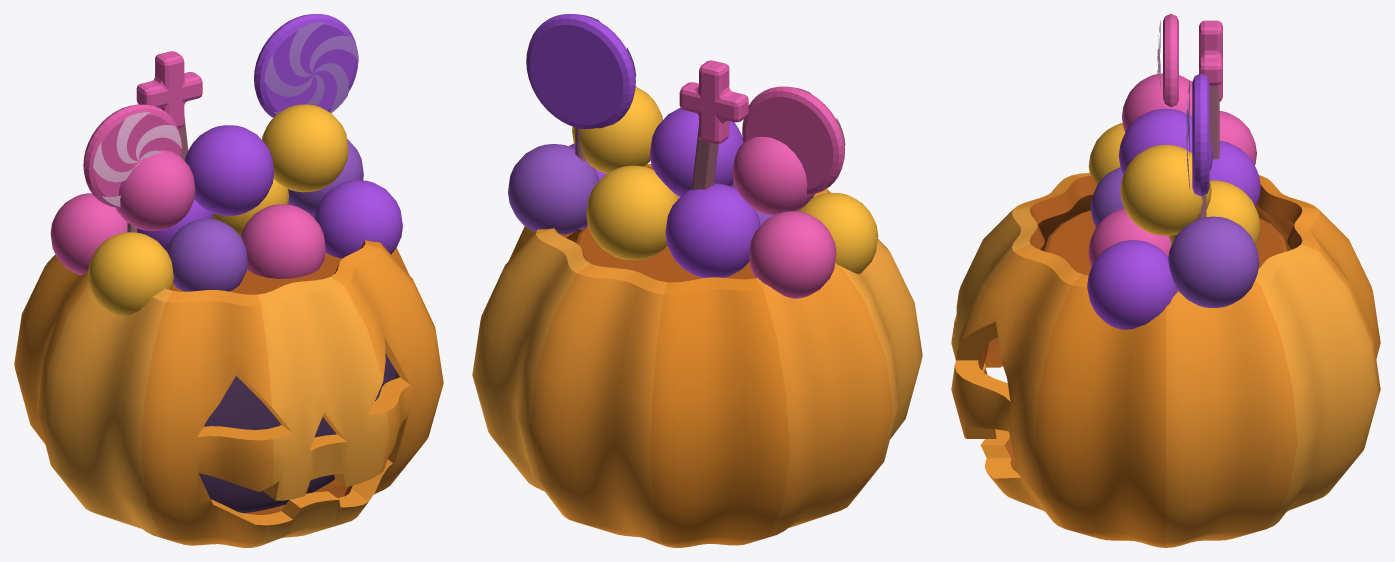
The model's file is pumpkin_candy_bucket_NEW.glb.
3 views of the same model, side by side, from view 1: azimuth 30°, elevation 25°; view 2: azimuth 150°, elevation 25°; view 3: azimuth 270°, elevation 25° (orthographic). The views are drawn at different scales.
Visible parts, largest first — view 1: pumpkin_candy_bucket_NEW_visual; view 2: pumpkin_candy_bucket_NEW_visual; view 3: pumpkin_candy_bucket_NEW_visual.
Boxes of the visible parts, x1=… form: pumpkin_candy_bucket_NEW_visual: x1=14, y1=14, x2=443, y2=547; pumpkin_candy_bucket_NEW_visual: x1=472, y1=14, x2=922, y2=547; pumpkin_candy_bucket_NEW_visual: x1=951, y1=14, x2=1380, y2=547.
Size of the model in its own units: 1.79 by 2.09 by 1.72.
